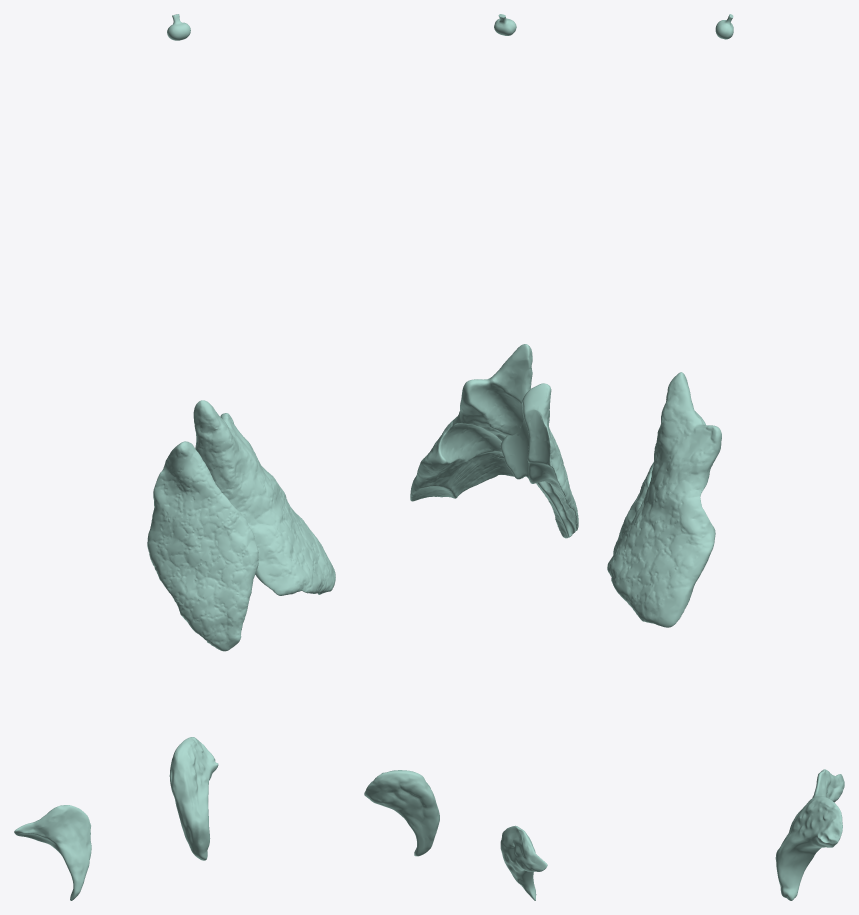
Rendered from endocrine.glb.
3 renders of one model, left to right at view 1: azimuth 30°, elevation 25°; view 2: azimuth 150°, elevation 25°; view 3: azimuth 270°, elevation 25°, orthographic. The views are drawn at different scales.
Parts seen in each view (by area): view 1: FMA71194, FMA71195, FMA15630, FMA15629; view 2: FMA71195, FMA71194, FMA15630, FMA15629; view 3: FMA71195, FMA15630, FMA15629, FMA71194.
Part boxes in pixels (x1,y1,x2,y2): FMA71194: (147, 441, 258, 651); FMA71195: (193, 400, 335, 595); FMA15630: (169, 737, 218, 860); FMA15629: (14, 805, 91, 900); FMA71195: (410, 344, 532, 501); FMA71194: (500, 383, 578, 538); FMA15630: (364, 770, 439, 856); FMA15629: (500, 825, 547, 900); FMA71195: (607, 372, 721, 627); FMA15630: (775, 796, 842, 900); FMA15629: (812, 769, 844, 802); FMA71194: (611, 411, 705, 582).
Bounding box in the file's own units: 0.1282 × 0.4733 × 0.1171.
